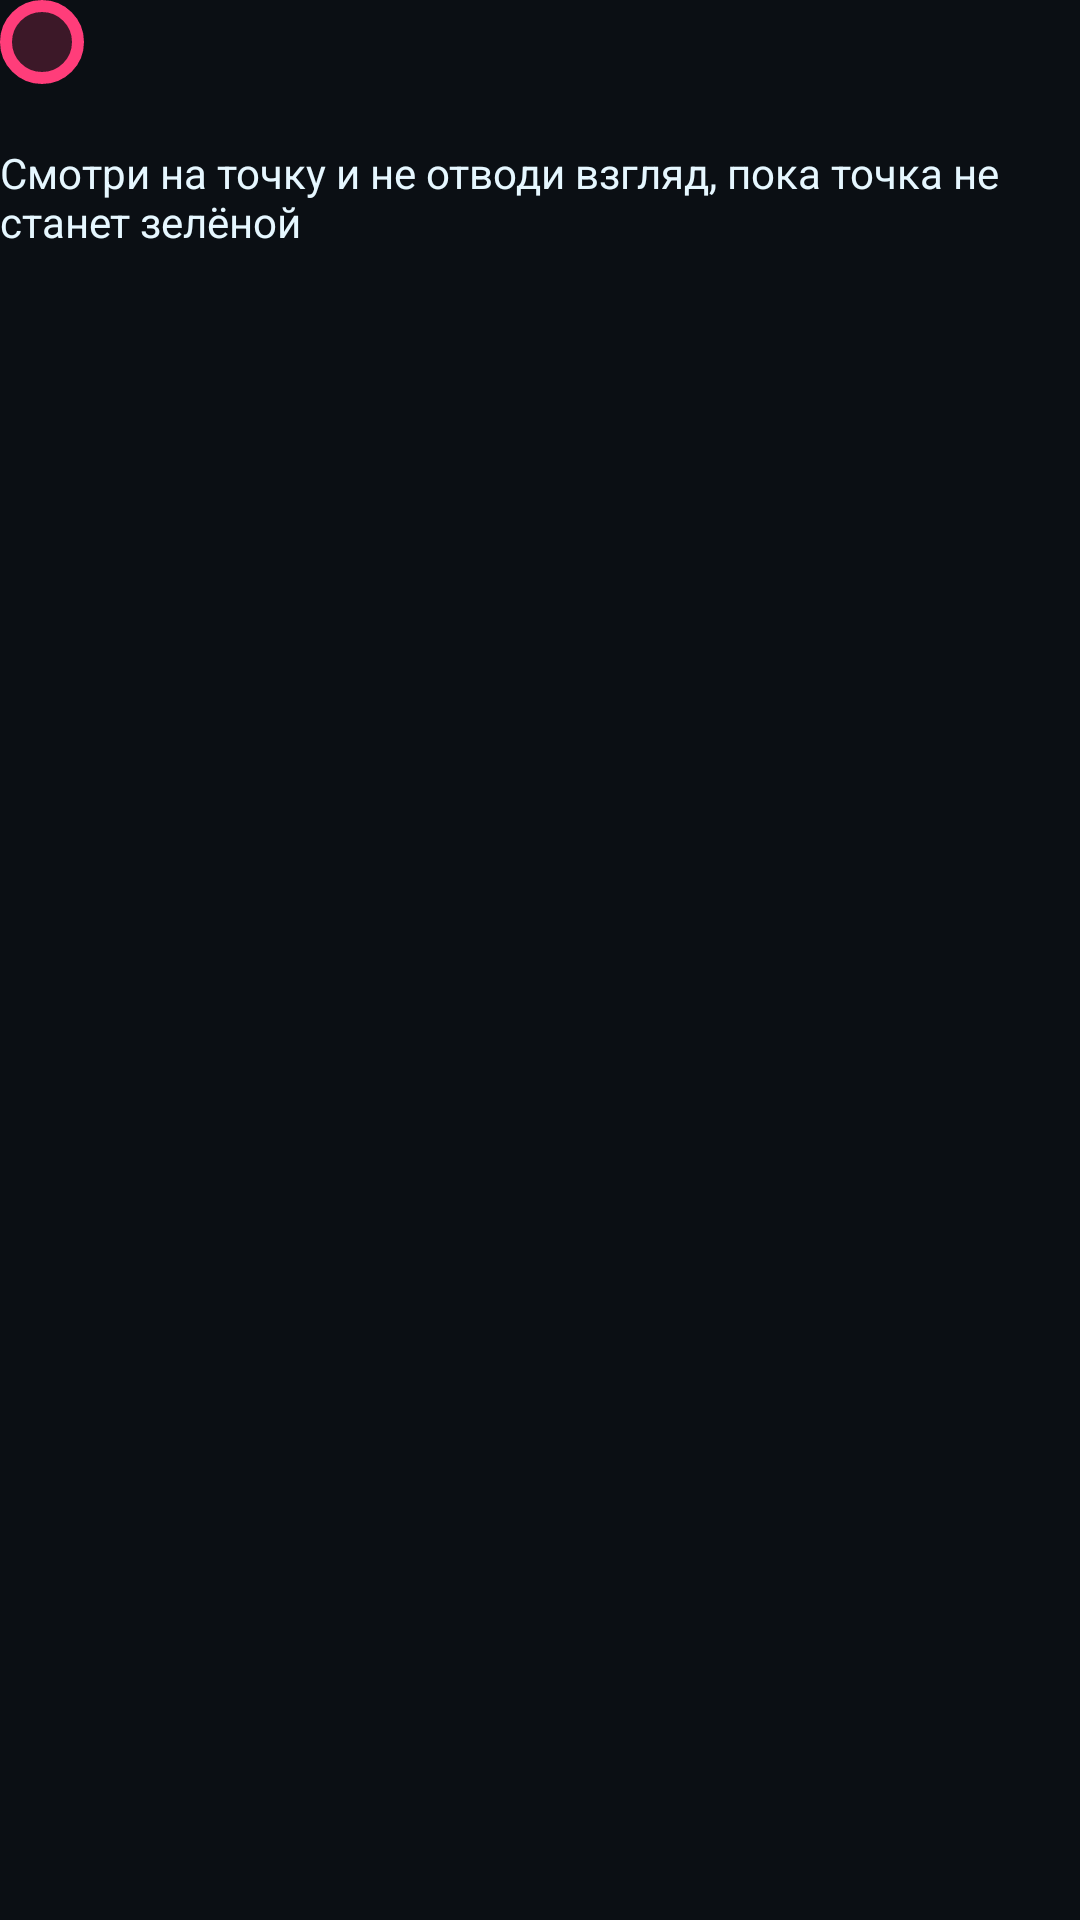

Icon bounding boxes for this 1080×1920 phone screenshot, format box=[x1, y1, x2, y2]:
cursor ring: box=[0, 0, 84, 84]
